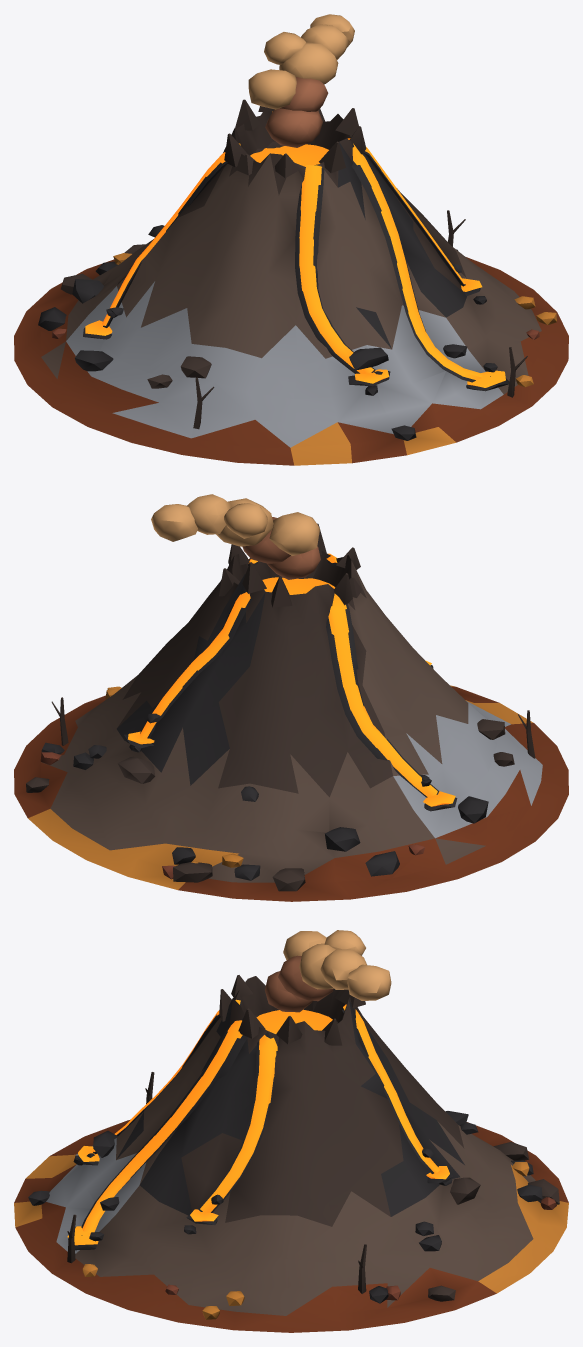
Rendered from nw_ember_peak.glb.
The picture shows the model from 3 angles, top to bottom: view 1: azimuth 30°, elevation 25°; view 2: azimuth 150°, elevation 25°; view 3: azimuth 270°, elevation 25°; orthographic projection.
Visible parts, largest first — view 1: nw_ember_peak; view 2: nw_ember_peak; view 3: nw_ember_peak.
Part boxes in pixels (bbox=[...]): nw_ember_peak: bbox=[14, 14, 568, 465]; nw_ember_peak: bbox=[14, 494, 568, 901]; nw_ember_peak: bbox=[14, 930, 568, 1332].
Bounding box in the file's own units: 1.58 × 0.9089 × 1.57.
